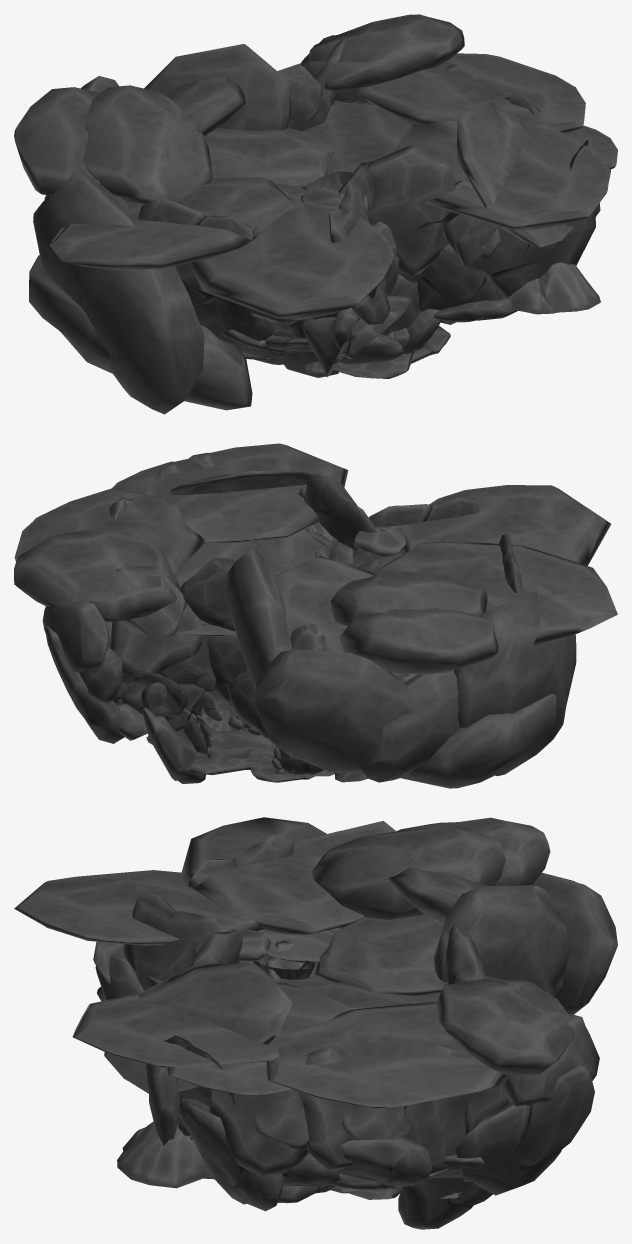
File: CaveBase.fbx
3 views of the same model, one above another, from view 1: azimuth 30°, elevation 25°; view 2: azimuth 150°, elevation 25°; view 3: azimuth 270°, elevation 25° (orthographic). The views are drawn at different scales.
Parts seen in each view (by area): view 1: Cave_Rocks; view 2: Cave_Rocks; view 3: Cave_Rocks.
Part boxes in pixels (x1,y1,x2,y2): Cave_Rocks: [14, 14, 617, 414]; Cave_Rocks: [14, 443, 617, 788]; Cave_Rocks: [14, 817, 617, 1229].
Bounding box in the file's own units: 32846 × 15647 × 28871.
2 materials, 2 textured.
